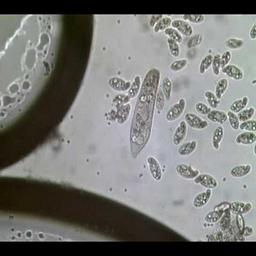Paramecium: (130, 69, 160, 160), (165, 97, 186, 122), (147, 155, 163, 182), (185, 112, 208, 130), (176, 163, 200, 180), (229, 95, 249, 114), (171, 19, 193, 36), (195, 173, 218, 189), (221, 65, 244, 81), (193, 189, 212, 208), (172, 121, 187, 145), (108, 77, 132, 91), (214, 78, 229, 100), (211, 125, 224, 150), (204, 90, 220, 110), (178, 140, 197, 156), (199, 54, 214, 74), (230, 165, 251, 178), (235, 132, 256, 145), (162, 77, 173, 101), (187, 34, 204, 49), (154, 18, 171, 32), (169, 59, 187, 72), (225, 38, 244, 50), (168, 39, 180, 58), (195, 102, 211, 116)
